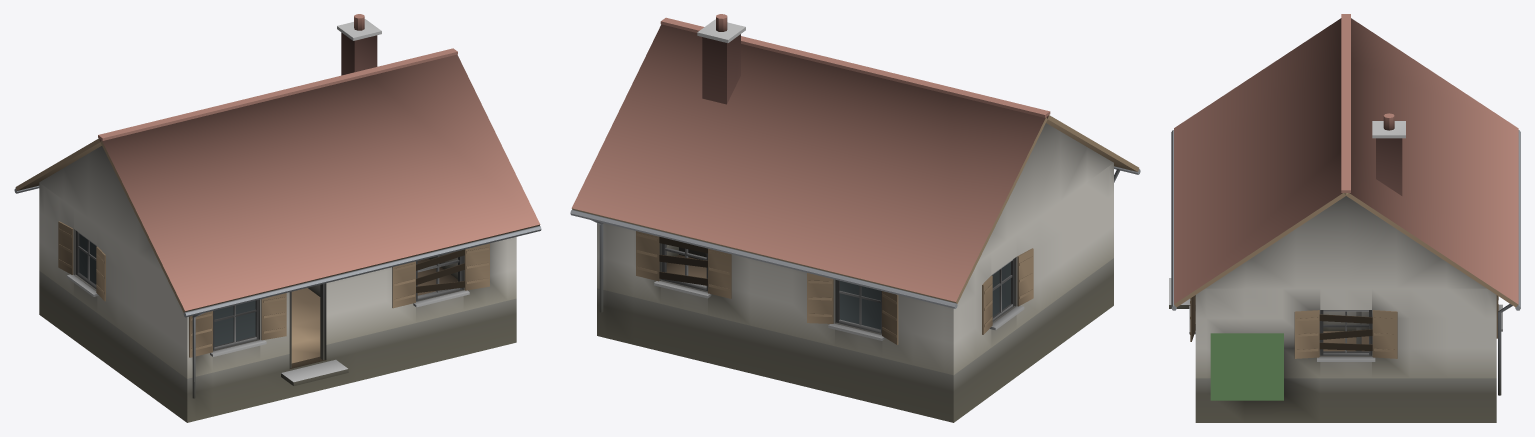
File: house_a2.glb
3 renders of one model, left to right at view 1: azimuth 30°, elevation 25°; view 2: azimuth 150°, elevation 25°; view 3: azimuth 270°, elevation 25°, orthographic. The views are drawn at different scales.
Visible parts, largest first — view 1: house_a2; view 2: house_a2; view 3: house_a2.
Boxes of the visible parts, bbox=[...] form: house_a2: bbox=[14, 14, 541, 422]; house_a2: bbox=[570, 14, 1140, 422]; house_a2: bbox=[1169, 14, 1520, 422].
Bounding box in the file's own units: 9.7 × 7.09 × 8.19.
